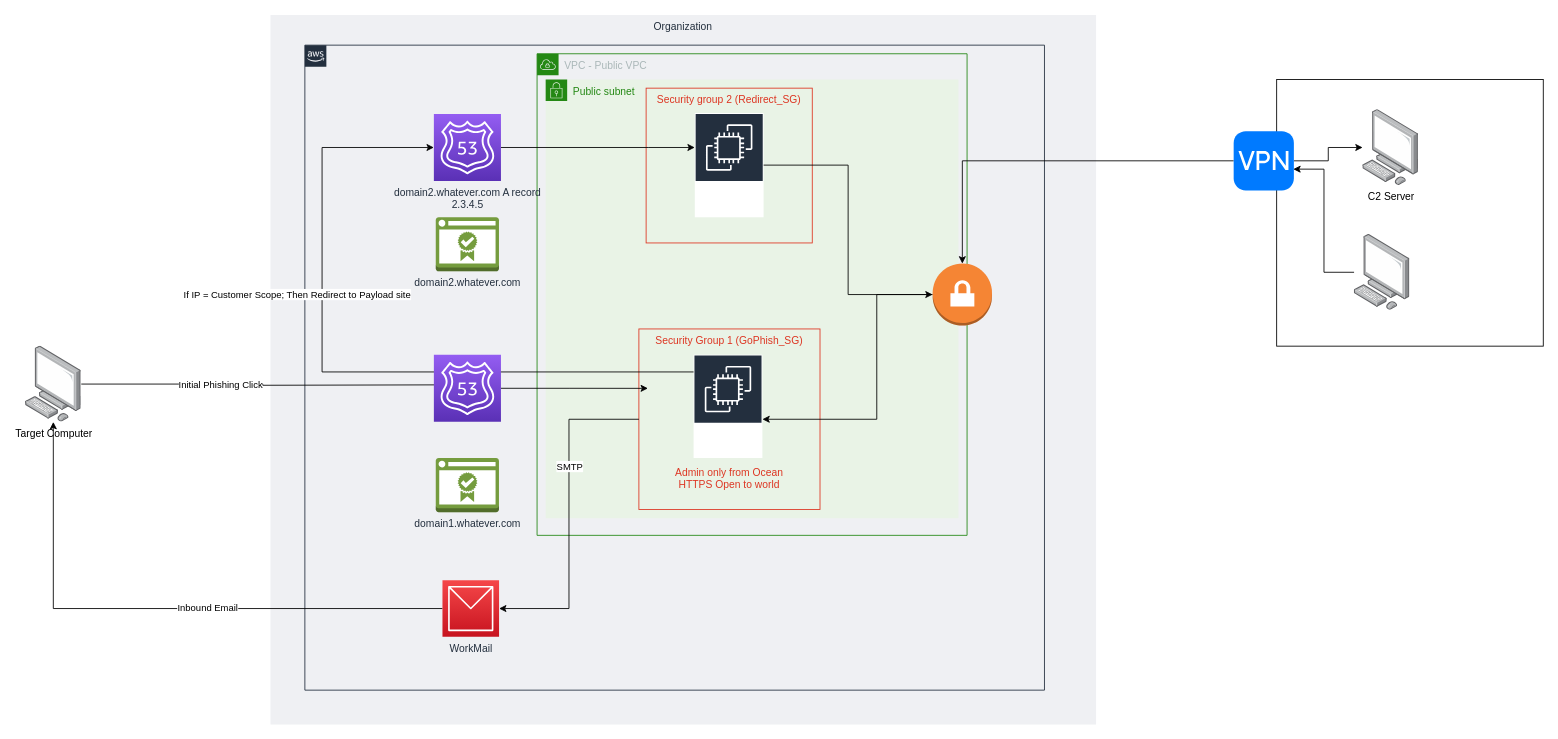
This 1558x739 diagram has some shape labels left out. The centre of each missing label's shape, as x and y in pixels:
10.0.8.102 SoCat Redir: the point at 729,164
10.8.101 GoPhish: the point at 727,406
Client VPN Gateway: the point at 962,294
domain1.whatever.com 1.2.3.4: the point at 467,388
Pentest VMs: the point at 1382,272
